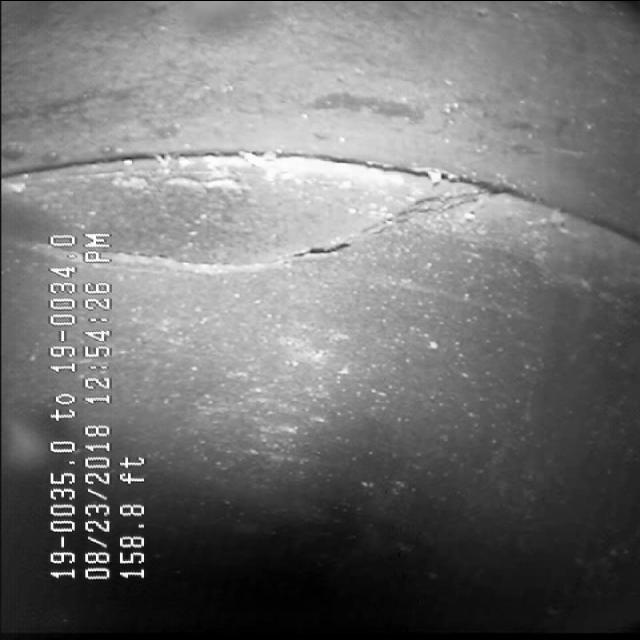Crack: (148, 181, 444, 294)
